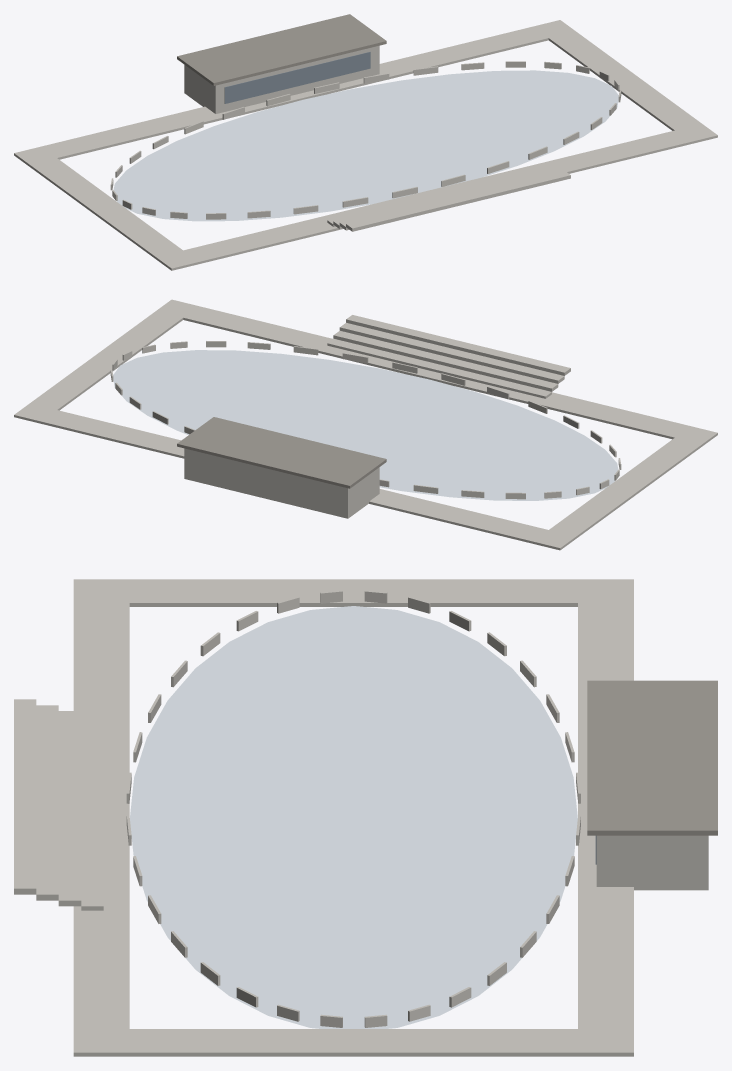
File: cp_wollman_rink.glb
3 views of the same model, one above another, from view 1: azimuth 30°, elevation 25°; view 2: azimuth 150°, elevation 25°; view 3: azimuth 270°, elevation 25° (orthographic). The views are drawn at different scales.
Parts seen in each view (by area): view 1: WollmanRink; view 2: WollmanRink; view 3: WollmanRink.
Part boxes in pixels (x1=…): WollmanRink: x1=14, y1=14, x2=717, y2=270; WollmanRink: x1=14, y1=299, x2=717, y2=550; WollmanRink: x1=14, y1=579, x2=717, y2=1056.
Bounding box in the file's own units: 60 × 3.81 × 37.7.
